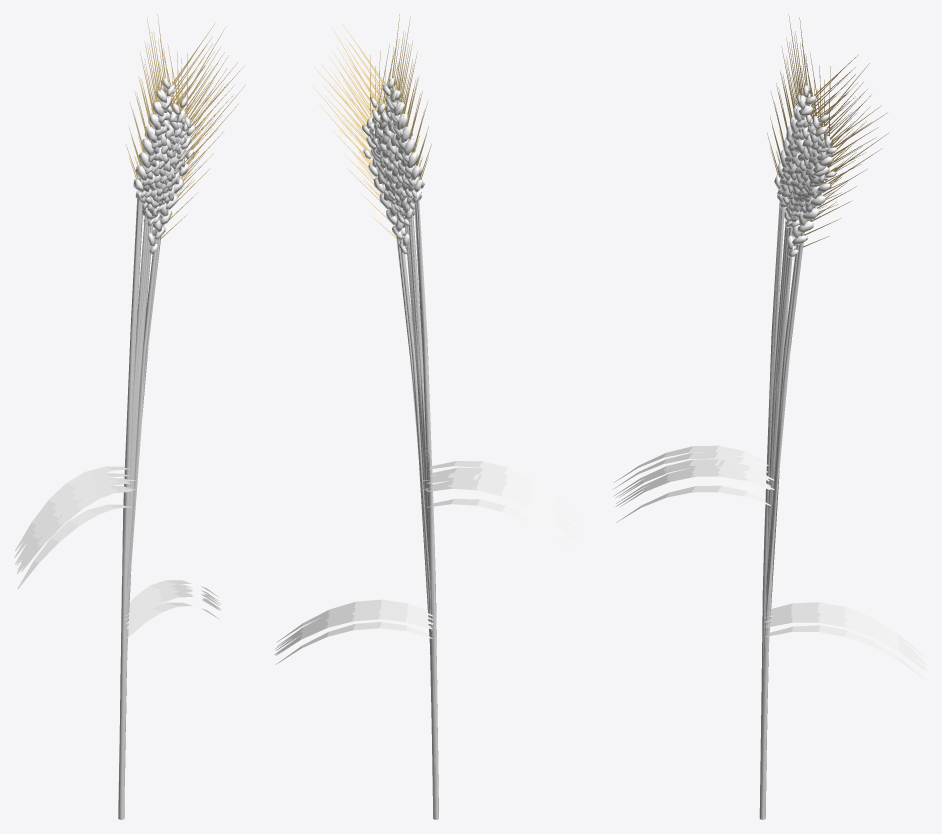
Rendered from trigo.glb.
The picture shows the model from 3 angles, left to right: view 1: azimuth 30°, elevation 25°; view 2: azimuth 150°, elevation 25°; view 3: azimuth 330°, elevation 25°; orthographic projection.
Parts seen in each view (by area): view 1: Protagonista_0, Protagonista_2, Espiga_3, Espiga_2, Espiga_1, Espiga_4, Protagonista_4, Protagonista_3, Espiga_0, Protagonista_1; view 2: Protagonista_0, Protagonista_2, Espiga_3, Espiga_2, Protagonista_4, Protagonista_3, Espiga_4, Espiga_1, Espiga_0, Protagonista_1; view 3: Protagonista_2, Espiga_3, Protagonista_0, Espiga_1, Espiga_2, Protagonista_3, Protagonista_4, Espiga_0, Espiga_4, Protagonista_1.
Boxes of the visible parts, x1,y1,x2,y2 form: Protagonista_0: (14, 17, 218, 819); Protagonista_2: (15, 14, 219, 819); Espiga_3: (17, 85, 245, 819); Espiga_2: (20, 27, 225, 785); Espiga_1: (21, 44, 228, 817); Espiga_4: (16, 39, 219, 807); Protagonista_4: (15, 32, 218, 819); Protagonista_3: (17, 46, 224, 819); Espiga_0: (19, 53, 243, 780); Protagonista_1: (16, 52, 237, 819); Protagonista_0: (277, 17, 583, 819); Protagonista_2: (276, 14, 582, 807); Espiga_3: (276, 85, 580, 815); Espiga_2: (274, 26, 576, 819); Protagonista_4: (277, 33, 582, 819); Protagonista_3: (275, 47, 580, 653); Espiga_4: (276, 39, 581, 756); Espiga_1: (274, 43, 576, 819); Espiga_0: (275, 55, 554, 818); Protagonista_1: (276, 50, 580, 815); Protagonista_2: (613, 17, 924, 819); Espiga_3: (616, 100, 926, 819); Protagonista_0: (612, 14, 924, 818); Espiga_1: (619, 51, 927, 819); Espiga_2: (619, 44, 927, 808); Protagonista_3: (616, 54, 925, 818); Protagonista_4: (613, 33, 925, 766); Espiga_0: (617, 66, 925, 790); Espiga_4: (615, 43, 925, 796); Protagonista_1: (615, 65, 925, 819).
Bounding box in the file's own units: 0.4515 × 1.33 × 0.1567.
